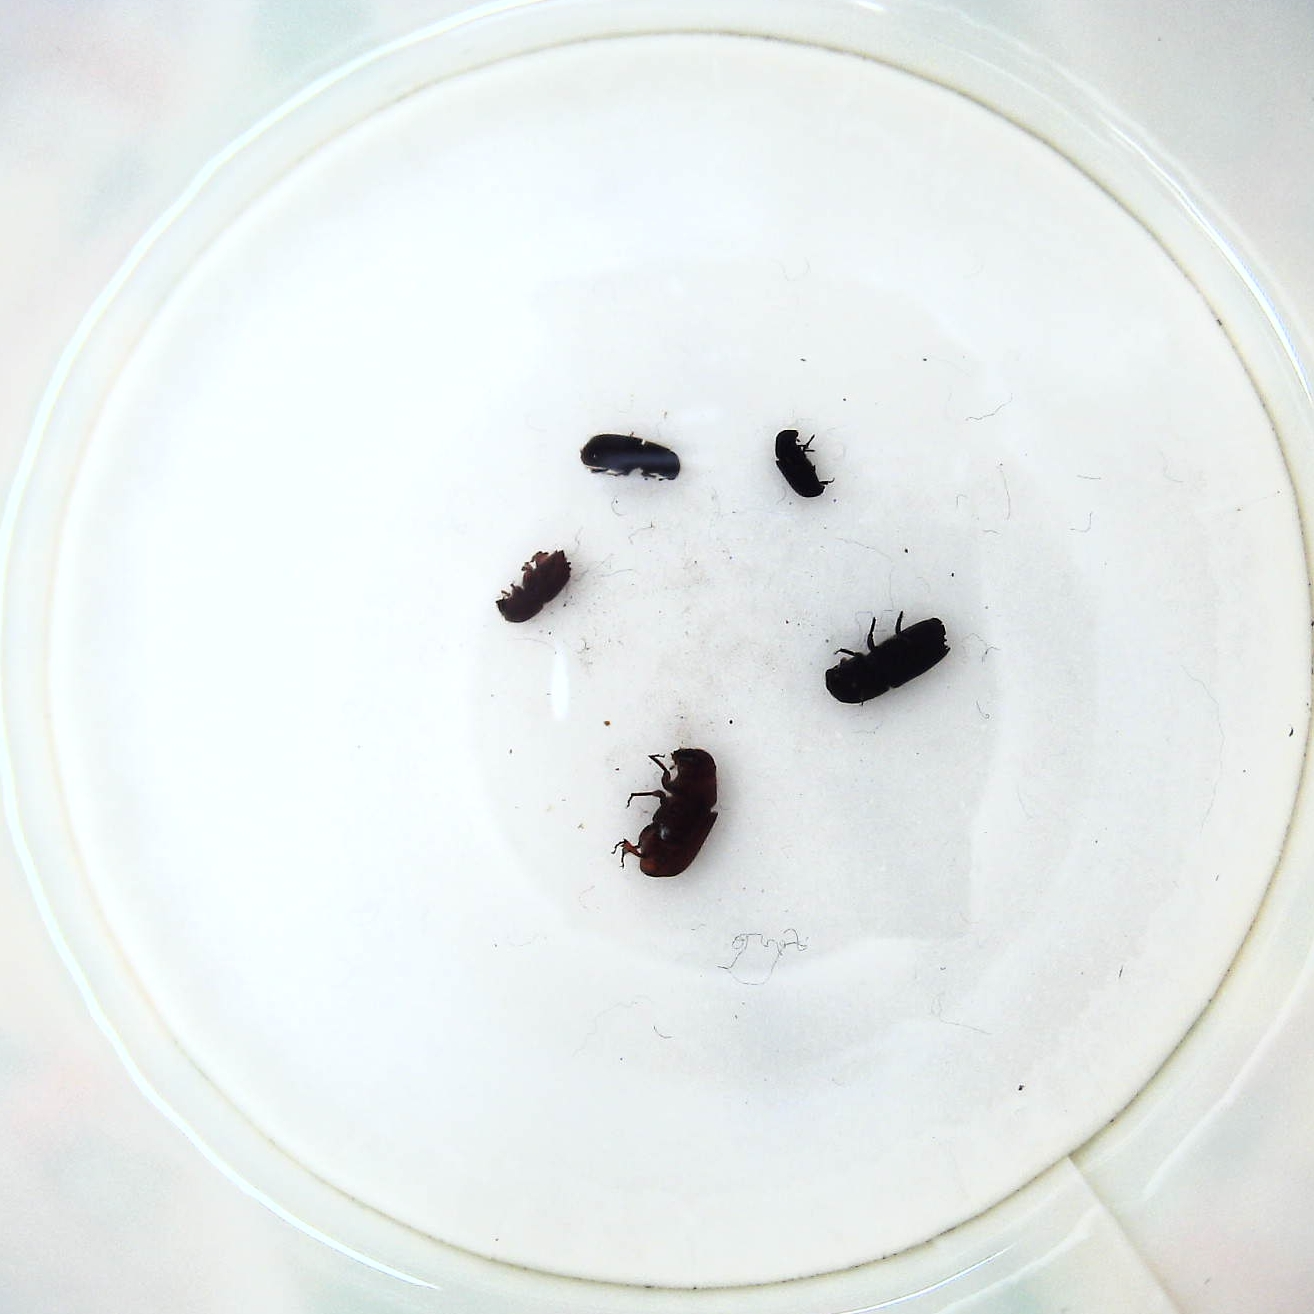Boerner: (817, 608, 951, 711)
Leconte: (612, 742, 729, 884)
armandi: (572, 424, 685, 487)
coleoptera: (771, 421, 836, 502)
linnaeus: (490, 538, 575, 629)
